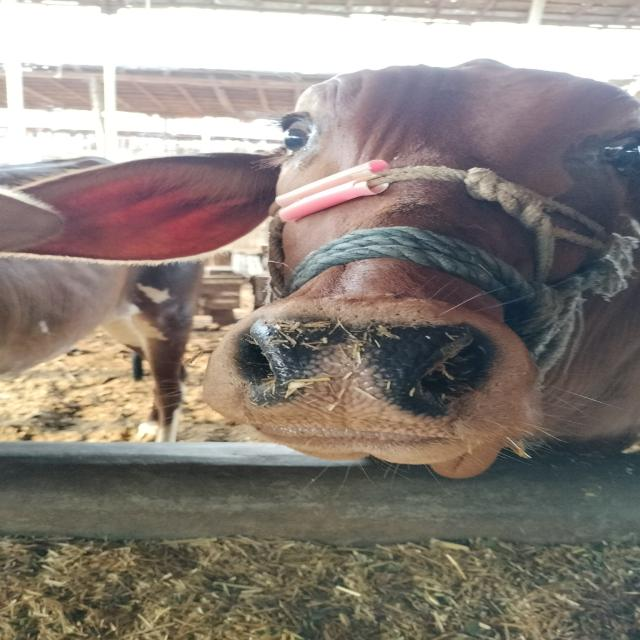muzzles: (204, 304, 500, 452)
